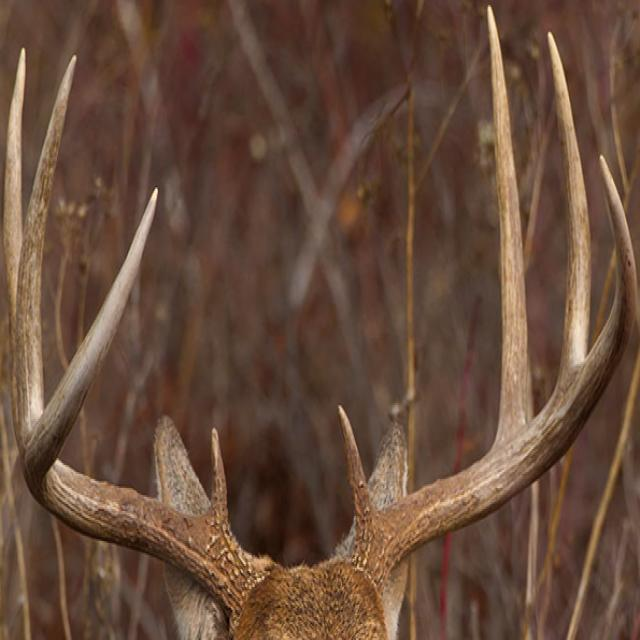L-G1: (337, 403, 374, 525)
L-G2: (487, 3, 534, 437)
L-G3: (547, 31, 591, 376)
R-F: (351, 151, 637, 598), (19, 186, 269, 638)
R-G1: (205, 426, 229, 524)
R-G3: (15, 51, 78, 449)
